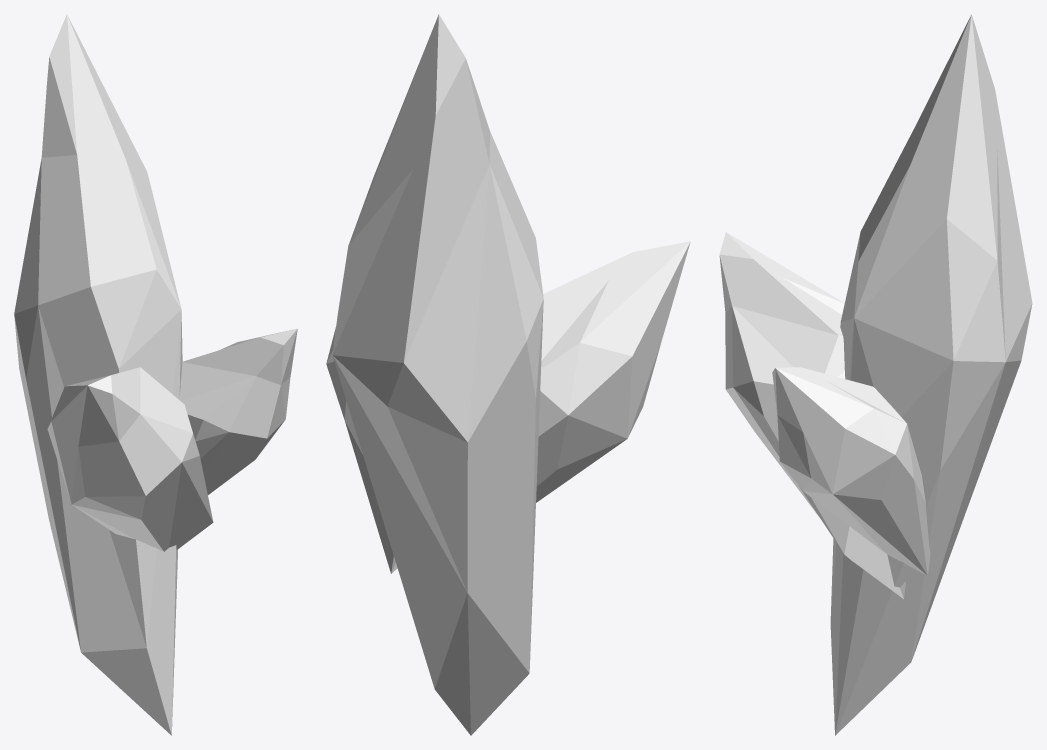
File: Crystal 1.fbx
3 views of the same model, side by side, from view 1: azimuth 30°, elevation 25°; view 2: azimuth 150°, elevation 25°; view 3: azimuth 270°, elevation 25° (orthographic). The views are drawn at different scales.
Visible parts, largest first — view 1: Crystal 1; view 2: Crystal 1; view 3: Crystal 1.
Part boxes in pixels (left/top/right/bottom): Crystal 1: left=14, top=14, right=297, bottom=735; Crystal 1: left=326, top=14, right=690, bottom=735; Crystal 1: left=719, top=14, right=1032, bottom=735.
Size of the model in its own units: 598 by 1598 by 645.
1 material, 1 textured.
